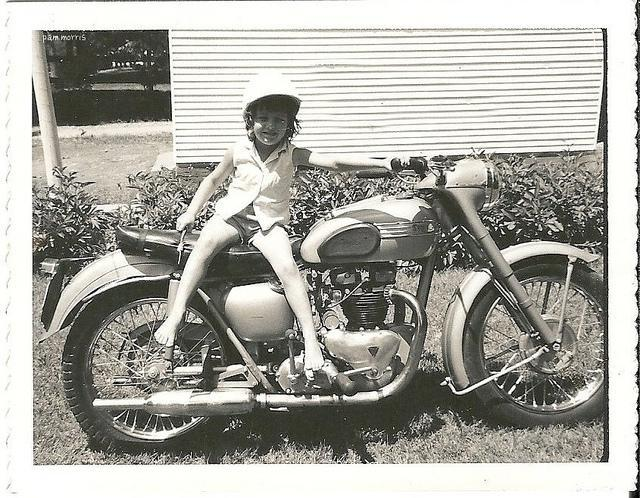motorcycle: (38, 151, 608, 459)
